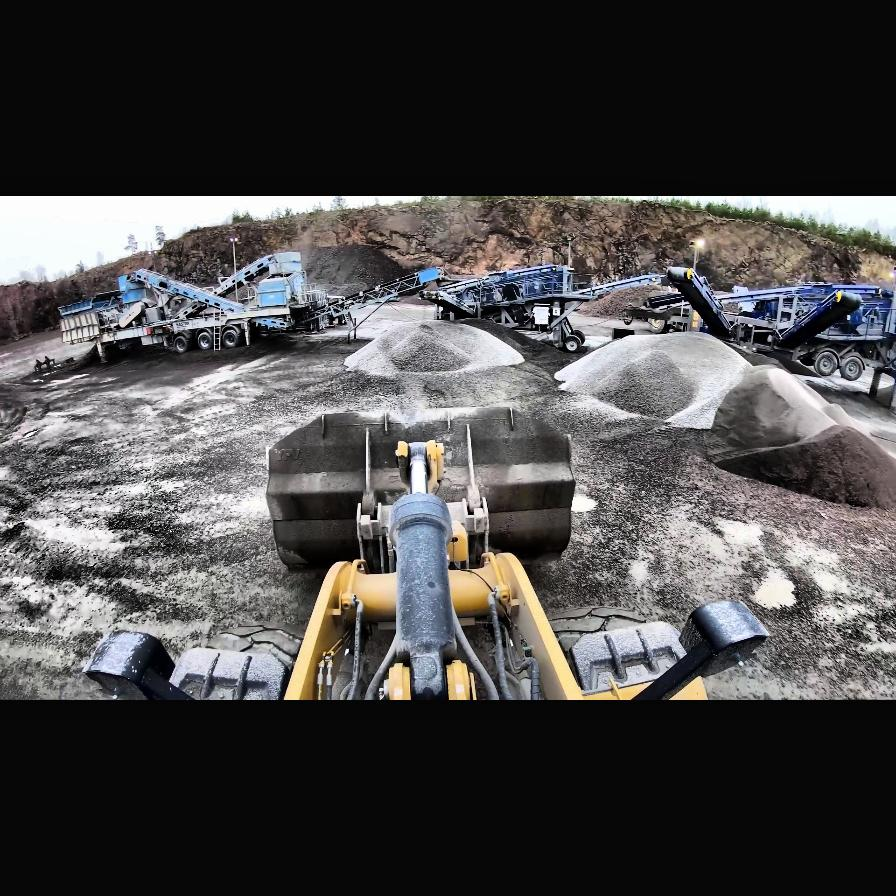anchor: (396, 440, 446, 496)
pile of gravel: (582, 326, 896, 504), (569, 334, 728, 432), (344, 318, 514, 378), (294, 242, 410, 302)
